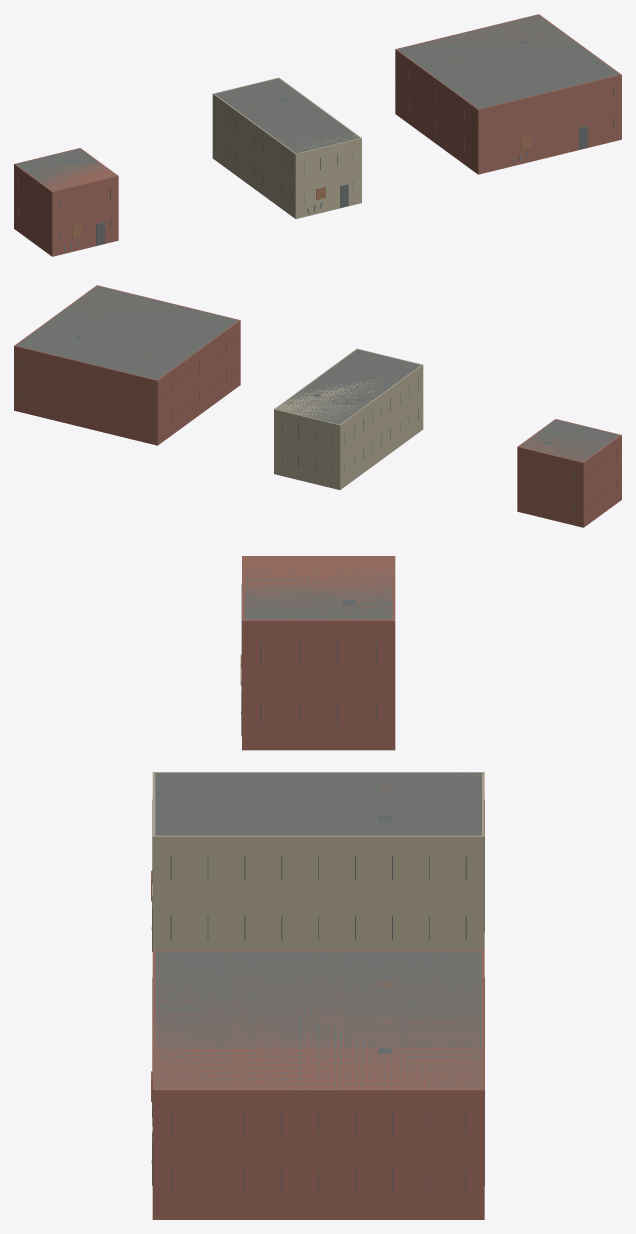
File: low_houses.glb
3 views of the same model, one above another, from view 1: azimuth 30°, elevation 25°; view 2: azimuth 150°, elevation 25°; view 3: azimuth 270°, elevation 25° (orthographic). The views are drawn at different scales.
Parts seen in each view (by area): view 1: building_low_13x13_s41, building_low_6x13_s41, building_low_6x6_s41; view 2: building_low_13x13_s41, building_low_6x13_s41, building_low_6x6_s41; view 3: building_low_13x13_s41, building_low_6x13_s41, building_low_6x6_s41.
Boxes of the visible parts, <box> form: building_low_13x13_s41: <box>395,14,621,174</box>; building_low_6x13_s41: <box>212,77,361,218</box>; building_low_6x6_s41: <box>14,148,118,256</box>; building_low_13x13_s41: <box>14,285,240,445</box>; building_low_6x13_s41: <box>274,348,423,489</box>; building_low_6x6_s41: <box>517,419,621,527</box>; building_low_13x13_s41: <box>151,950,484,1219</box>; building_low_6x13_s41: <box>151,772,484,951</box>; building_low_6x6_s41: <box>240,556,395,750</box>.
Size of the model in its own units: 49.52 by 5.6 by 13.07.
